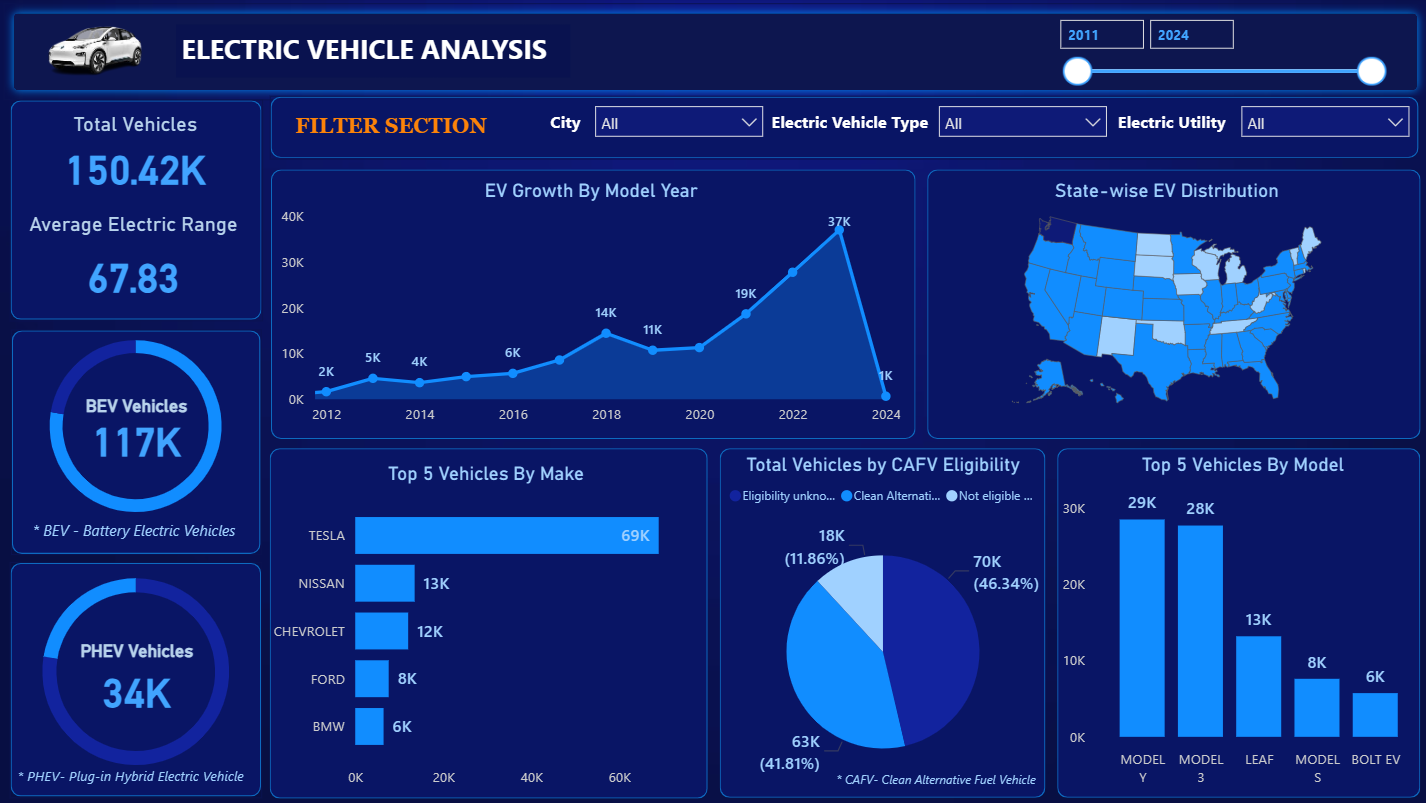

What the dashboard file says about the page in this screenshot:
{"tool":"powerbi","page":{"name":"Page 1","canvas":[1280,720],"ordinal":0},"visuals":[{"type":"shape","box":[11.7,5.8,1268.3,86.7],"z":0},{"type":"shape","box":[16.4,91.8,225.5,197.3],"z":1000},{"type":"textbox","box":[164.3,24.3,351.4,47.1],"z":2000},{"type":"image","box":[33.7,0,117.4,91.9],"z":3000},{"type":"card","title":"Total Vehicles","fields":{"Values":["Electric_Vehicle_Population_Data.Total Vehicles"]},"box":[30,102.9,197.1,76.5],"z":4000},{"type":"card","title":"Average Electric Range","fields":{"Values":["Avg(Electric_Vehicle_Population_Data.Electric Range)"]},"box":[28.8,191.2,195.9,90.6],"z":5000},{"type":"shape","box":[17.8,295.6,223.3,201.1],"z":6000},{"type":"shape","box":[16.7,503.3,225,210],"z":7000},{"type":"donutChart","fields":{"Category":["Electric_Vehicle_Population_Data.Electric Vehicle Type"],"Y":["Electric_Vehicle_Population_Data.Total Vehicles"]},"box":[1.4,282.1,255.7,201.4],"z":8000},{"type":"card","title":"BEV Vehicles","fields":{"Values":["CountNonNull(Electric_Vehicle_Population_Data.Electric Vehicle Type)"]},"box":[65.1,354.7,127.9,59.1],"z":9000},{"type":"donutChart","fields":{"Category":["Electric_Vehicle_Population_Data.Electric Vehicle Type"],"Y":["Electric_Vehicle_Population_Data.Total Vehicles"]},"box":[4,492,249.3,218],"z":10000},{"type":"shape","box":[248.3,87.5,1024.2,56.7],"z":11000},{"type":"card","title":"PHEV Vehicles","fields":{"Values":["CountNonNull(Electric_Vehicle_Population_Data.Electric Vehicle Type)"]},"box":[50.7,573.3,157.3,70.7],"z":12000},{"type":"shape","box":[249.3,154,574,240],"z":13000},{"type":"areaChart","title":"EV Growth By Model Year","fields":{"Category":["Electric_Vehicle_Population_Data.Model Year"],"Y":["Electric_Vehicle_Population_Data.Total Vehicles"]},"box":[254,162.7,561.3,227.3],"z":14000},{"type":"shape","box":[833.3,154,439.3,240],"z":15000},{"type":"shapeMap","title":"State-wise EV Distribution","fields":{"Category":["Electric_Vehicle_Population_Data.State"]},"box":[815.3,162.7,464.7,213.3],"z":16000},{"type":"shape","box":[248.7,401.3,390,312],"z":17000},{"type":"shape","box":[649.3,402,290,311.3],"z":18000},{"type":"clusteredBarChart","title":"Top 5 Vehicles By Make","fields":{"Category":["Electric_Vehicle_Population_Data.Make"],"Y":["Electric_Vehicle_Population_Data.Total Vehicles"]},"box":[241.3,414,398.7,299.3],"z":19000},{"type":"shape","box":[949.3,402,323.3,311.3],"z":20000},{"type":"pieChart","title":"Total Vehicles by CAFV Eligibility","fields":{"Category":["Electric_Vehicle_Population_Data.Clean Alternative Fuel Vehicle (CAFV) Eligibility"],"Y":["Electric_Vehicle_Population_Data.Total Vehicles"]},"box":[644,406,300,307.3],"z":21000},{"type":"clusteredColumnChart","title":"Top 5 Vehicles By Model","fields":{"Category":["Electric_Vehicle_Population_Data.Model"],"Y":["Electric_Vehicle_Population_Data.Total Vehicles"]},"box":[949.4,406.2,330.6,303.8],"z":22000},{"type":"textbox","box":[265.7,98.6,214.3,31.4],"z":23000},{"type":"slicer","fields":{"Values":["Electric_Vehicle_Population_Data.City"]},"box":[527.1,87.1,170,54.3],"z":24000},{"type":"slicer","fields":{"Values":["Electric_Vehicle_Population_Data.Electric Vehicle Type"]},"box":[833.6,87.1,170,54.3],"z":25000},{"type":"slicer","fields":{"Values":["Electric_Vehicle_Population_Data.Electric Utility"]},"box":[1102.9,87.1,170,54.3],"z":26000},{"type":"textbox","box":[493.6,95.7,45,31.4],"z":27000},{"type":"textbox","box":[690,95.7,152.1,37.1],"z":28000},{"type":"textbox","box":[998.6,95.7,107.9,37.1],"z":29000},{"type":"slicer","fields":{"Values":["Electric_Vehicle_Population_Data.Model Year"]},"box":[940,10,311.4,71.4],"z":30000},{"type":"textbox","box":[32.7,460.7,208.7,31.3],"z":30001},{"type":"textbox","box":[19.3,678.7,216,31.3],"z":30002},{"type":"textbox","box":[747.5,681.7,189.2,31.7],"z":30003}]}

Visuals, with their boxes in screenshot pixels (x1, y1, x2, y2), scaled from the page's 1280x720 canvas onto the 1426x803 screenshot:
shape: (x1=13, y1=6, x2=1425, y2=103)
shape: (x1=18, y1=102, x2=269, y2=322)
textbox: (x1=183, y1=27, x2=575, y2=80)
image: (x1=38, y1=0, x2=168, y2=102)
"Total Vehicles" card: (x1=33, y1=115, x2=253, y2=200)
"Average Electric Range" card: (x1=32, y1=213, x2=250, y2=314)
shape: (x1=20, y1=330, x2=269, y2=554)
shape: (x1=19, y1=561, x2=269, y2=796)
donutChart - Electric_Vehicle_Population_Data.Electric Vehicle Type x Electric_Vehicle_Population_Data.Total Vehicles: (x1=2, y1=315, x2=286, y2=539)
"BEV Vehicles" card: (x1=73, y1=396, x2=215, y2=462)
donutChart - Electric_Vehicle_Population_Data.Electric Vehicle Type x Electric_Vehicle_Population_Data.Total Vehicles: (x1=4, y1=549, x2=282, y2=792)
shape: (x1=277, y1=98, x2=1418, y2=161)
"PHEV Vehicles" card: (x1=56, y1=639, x2=232, y2=718)
shape: (x1=278, y1=172, x2=917, y2=439)
"EV Growth By Model Year" areaChart: (x1=283, y1=181, x2=908, y2=435)
shape: (x1=928, y1=172, x2=1418, y2=439)
"State-wise EV Distribution" shapeMap: (x1=908, y1=181, x2=1425, y2=419)
shape: (x1=277, y1=448, x2=712, y2=796)
shape: (x1=723, y1=448, x2=1046, y2=796)
"Top 5 Vehicles By Make" clusteredBarChart: (x1=269, y1=462, x2=713, y2=796)
shape: (x1=1058, y1=448, x2=1418, y2=796)
"Total Vehicles by CAFV Eligibility" pieChart: (x1=717, y1=453, x2=1052, y2=796)
"Top 5 Vehicles By Model" clusteredColumnChart: (x1=1058, y1=453, x2=1425, y2=792)
textbox: (x1=296, y1=110, x2=535, y2=145)
slicer - Electric_Vehicle_Population_Data.City: (x1=587, y1=97, x2=777, y2=158)
slicer - Electric_Vehicle_Population_Data.Electric Vehicle Type: (x1=929, y1=97, x2=1118, y2=158)
slicer - Electric_Vehicle_Population_Data.Electric Utility: (x1=1229, y1=97, x2=1418, y2=158)
textbox: (x1=550, y1=107, x2=600, y2=142)
textbox: (x1=769, y1=107, x2=938, y2=148)
textbox: (x1=1113, y1=107, x2=1233, y2=148)
slicer - Electric_Vehicle_Population_Data.Model Year: (x1=1047, y1=11, x2=1394, y2=91)
textbox: (x1=36, y1=514, x2=269, y2=549)
textbox: (x1=22, y1=757, x2=262, y2=792)
textbox: (x1=833, y1=760, x2=1044, y2=796)
